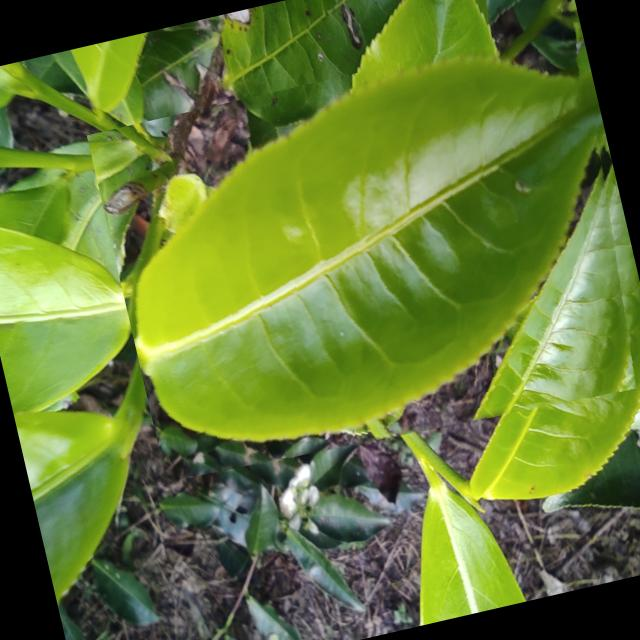Category B(2-4 days): (86, 21, 640, 495)
